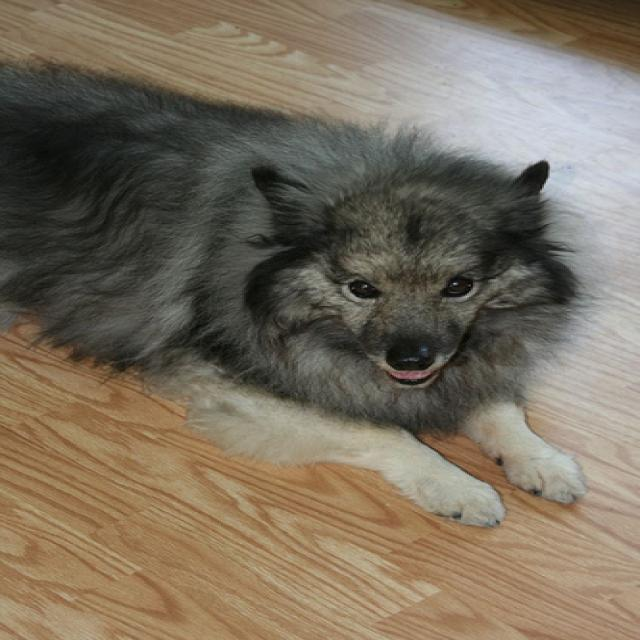dog-keeshond: (2, 52, 594, 534)
